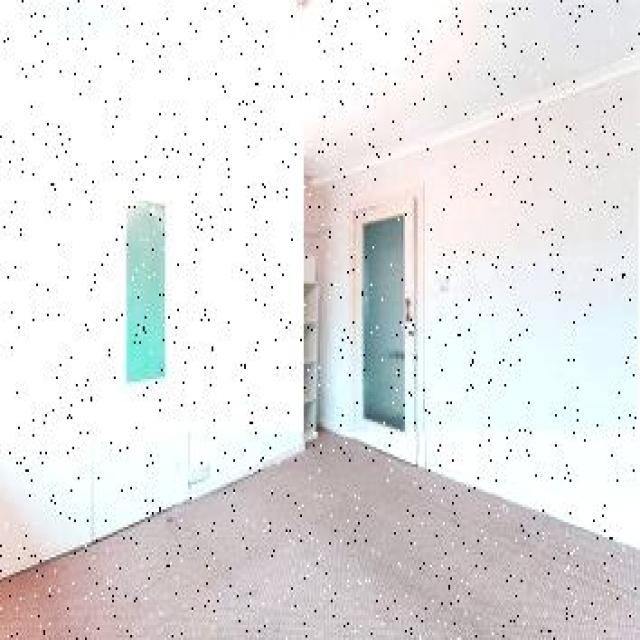Wall: (305, 72, 638, 545), (1, 35, 304, 494), (0, 433, 640, 637), (0, 0, 640, 176)
